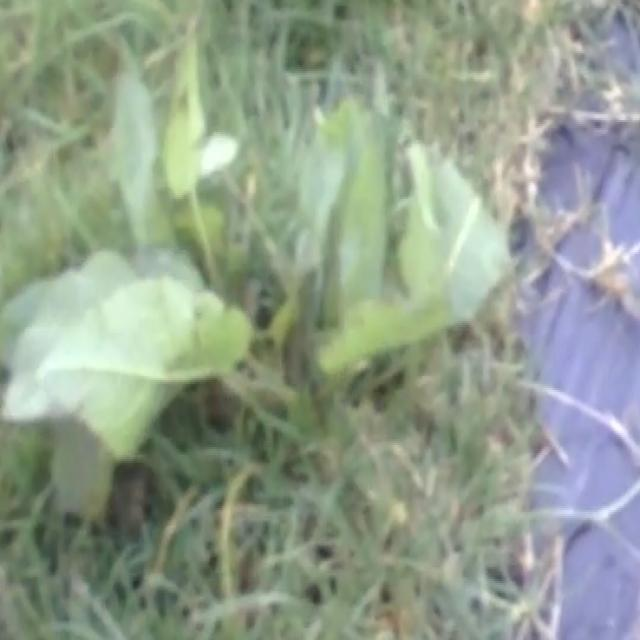organic waste: (0, 34, 504, 506)
